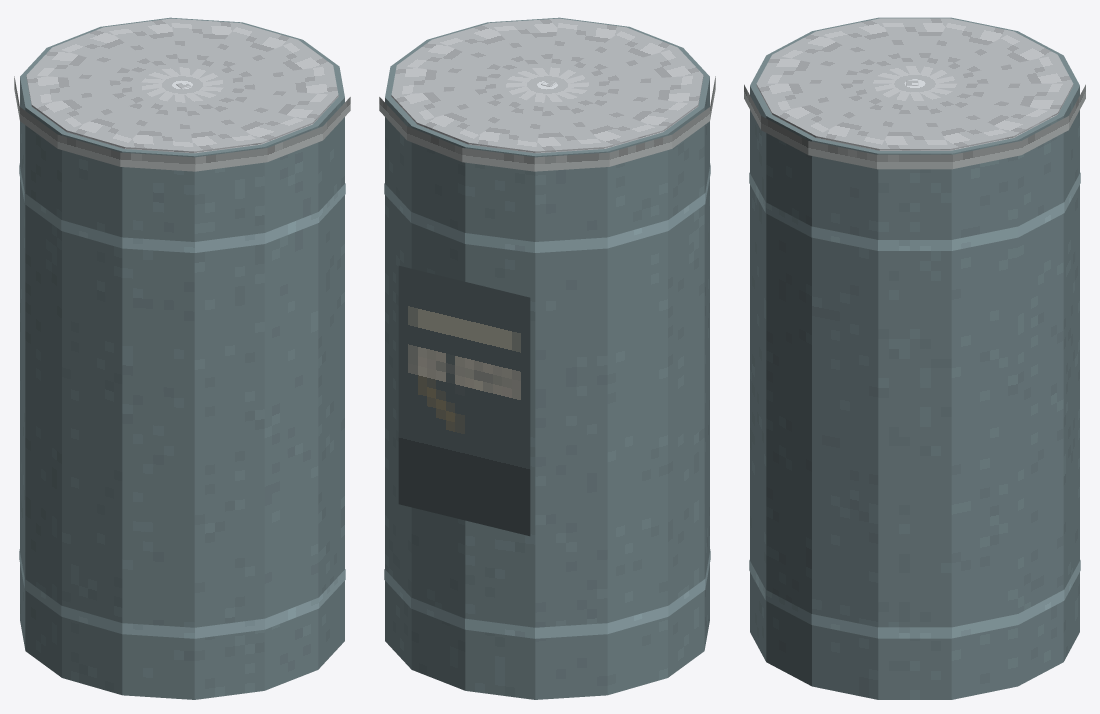
Rendered from drink_hard_seltzer.glb.
The picture shows the model from 3 angles, left to right: view 1: azimuth 30°, elevation 25°; view 2: azimuth 150°, elevation 25°; view 3: azimuth 270°, elevation 25°; orthographic projection.
Visible parts, largest first — view 1: block_body, block_top, block_printed rim stripe (×2), block_rolled seam; view 2: block_body, block_top, block_readable printed beverage label, block_printed rim stripe (×2), block_rolled seam; view 3: block_body, block_top, block_printed rim stripe (×2), block_rolled seam.
Boxes of the visible parts, <box> form: block_body: <box>20,17,344,699</box>; block_top: <box>26,18,338,153</box>; block_printed rim stripe (×2): <box>19,163,345,638</box>; block_rolled seam: <box>14,76,350,171</box>; block_body: <box>385,17,709,699</box>; block_top: <box>391,18,703,153</box>; block_readable printed beverage label: <box>398,265,530,536</box>; block_printed rim stripe (×2): <box>384,163,710,638</box>; block_rolled seam: <box>379,76,715,171</box>; block_body: <box>750,17,1079,699</box>; block_top: <box>756,18,1073,150</box>; block_printed rim stripe (×2): <box>749,172,1080,638</box>; block_rolled seam: <box>744,84,1085,169</box>.
Bounding box in the file's own units: 0.0897 × 0.1638 × 0.092.
Materials: 2 (2 with a texture image).
